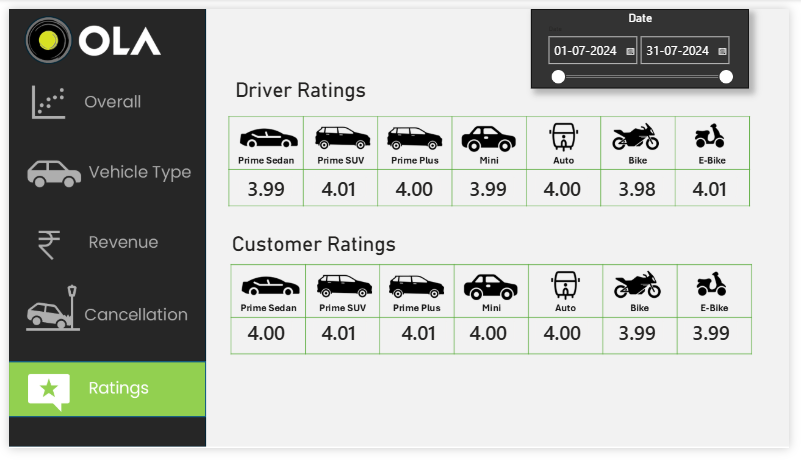

This screenshot's page, from the dashboard's own definition file:
{"tool":"powerbi","page":{"name":"Ratings ","canvas":[1280,720],"ordinal":4},"visuals":[{"type":"actionButton","box":[0,220.3,324,92.2],"z":0},{"type":"actionButton","box":[0,338.4,324,90.7],"z":1000},{"type":"actionButton","box":[0,445,324,92.2],"z":2000},{"type":"actionButton","box":[0,108,324,90.7],"z":3000},{"type":"cardVisual","fields":{"Data":["Avg(Bookings2.Driver_Ratings)"]},"box":[360,255,121.7,70],"z":3001},{"type":"cardVisual","fields":{"Data":["Avg(Bookings2.Driver_Ratings)"]},"box":[481.7,255,121.7,70],"z":3002},{"type":"cardVisual","fields":{"Data":["Avg(Bookings2.Driver_Ratings)"]},"box":[968.3,255,121.7,70],"z":3003},{"type":"cardVisual","fields":{"Data":["Avg(Bookings2.Driver_Ratings)"]},"box":[846.7,255,121.7,70],"z":3004},{"type":"cardVisual","fields":{"Data":["Avg(Bookings2.Driver_Ratings)"]},"box":[725,255,121.7,70],"z":3005},{"type":"cardVisual","fields":{"Data":["Avg(Bookings2.Driver_Ratings)"]},"box":[603.3,255,121.7,70],"z":3006},{"type":"cardVisual","fields":{"Data":["Avg(Bookings2.Driver_Ratings)"]},"box":[521.7,305,10,70],"z":3007},{"type":"cardVisual","fields":{"Data":["Avg(Bookings2.Driver_Ratings)"]},"box":[1090,255,121.7,70],"z":3008},{"type":"cardVisual","fields":{"Data":["Avg(Bookings2.Customer_Rating)"]},"box":[360,491.7,121.7,70],"z":3009},{"type":"cardVisual","fields":{"Data":["Avg(Bookings2.Driver_Ratings)"]},"box":[481.7,491.7,121.7,70],"z":3015},{"type":"cardVisual","fields":{"Data":["Avg(Bookings2.Customer_Rating)"]},"box":[846.7,491.7,121.7,70],"z":3017},{"type":"cardVisual","fields":{"Data":["Avg(Bookings2.Customer_Rating)"]},"box":[725,491.7,121.7,70],"z":3018},{"type":"cardVisual","fields":{"Data":["Avg(Bookings2.Customer_Rating)"]},"box":[613.3,491.7,121.7,70],"z":3019},{"type":"cardVisual","fields":{"Data":["Avg(Bookings2.Customer_Rating)"]},"box":[968.3,491.7,121.7,70],"z":3020},{"type":"cardVisual","fields":{"Data":["Avg(Bookings2.Customer_Rating)"]},"box":[1090,491.7,121.7,70],"z":3021},{"type":"textbox","box":[360,108.3,243.3,65],"z":3022},{"type":"textbox","box":[725,120,365,53.3],"z":3023},{"type":"textbox","box":[360,360,293.3,56.7],"z":3024},{"type":"slicer","title":"Date","fields":{"Values":["Bookings2.Date"]},"box":[855,0,356.7,130],"z":3025}]}

Visuals, with their boxes on the page's 1280x720 design canvas (x1, y1, x2, y2). These are canvas units, not pixel positions in the 801x468 screenshot, which may show the page scaled, cropped or inside an application window:
actionButton: l=0, t=220, r=324, b=312
actionButton: l=0, t=338, r=324, b=429
actionButton: l=0, t=445, r=324, b=537
actionButton: l=0, t=108, r=324, b=199
cardVisual - Avg(Bookings2.Driver_Ratings): l=360, t=255, r=482, b=325
cardVisual - Avg(Bookings2.Driver_Ratings): l=482, t=255, r=603, b=325
cardVisual - Avg(Bookings2.Driver_Ratings): l=968, t=255, r=1090, b=325
cardVisual - Avg(Bookings2.Driver_Ratings): l=847, t=255, r=968, b=325
cardVisual - Avg(Bookings2.Driver_Ratings): l=725, t=255, r=847, b=325
cardVisual - Avg(Bookings2.Driver_Ratings): l=603, t=255, r=725, b=325
cardVisual - Avg(Bookings2.Driver_Ratings): l=522, t=305, r=532, b=375
cardVisual - Avg(Bookings2.Driver_Ratings): l=1090, t=255, r=1212, b=325
cardVisual - Avg(Bookings2.Customer_Rating): l=360, t=492, r=482, b=562
cardVisual - Avg(Bookings2.Driver_Ratings): l=482, t=492, r=603, b=562
cardVisual - Avg(Bookings2.Customer_Rating): l=847, t=492, r=968, b=562
cardVisual - Avg(Bookings2.Customer_Rating): l=725, t=492, r=847, b=562
cardVisual - Avg(Bookings2.Customer_Rating): l=613, t=492, r=735, b=562
cardVisual - Avg(Bookings2.Customer_Rating): l=968, t=492, r=1090, b=562
cardVisual - Avg(Bookings2.Customer_Rating): l=1090, t=492, r=1212, b=562
textbox: l=360, t=108, r=603, b=173
textbox: l=725, t=120, r=1090, b=173
textbox: l=360, t=360, r=653, b=417
"Date" slicer: l=855, t=0, r=1212, b=130
